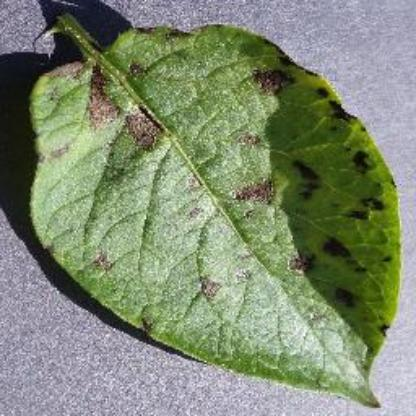Early-Blight: (25, 13, 399, 407)
